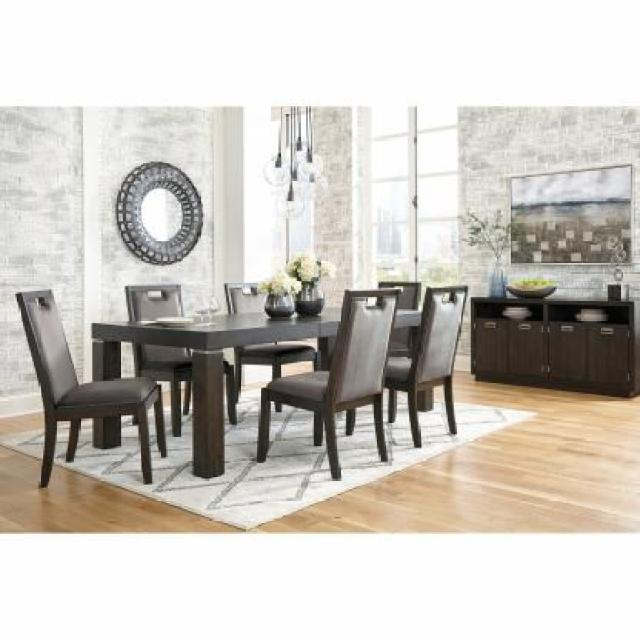floor: (0, 371, 640, 533), (455, 353, 479, 384), (283, 360, 314, 375), (244, 365, 268, 384)
